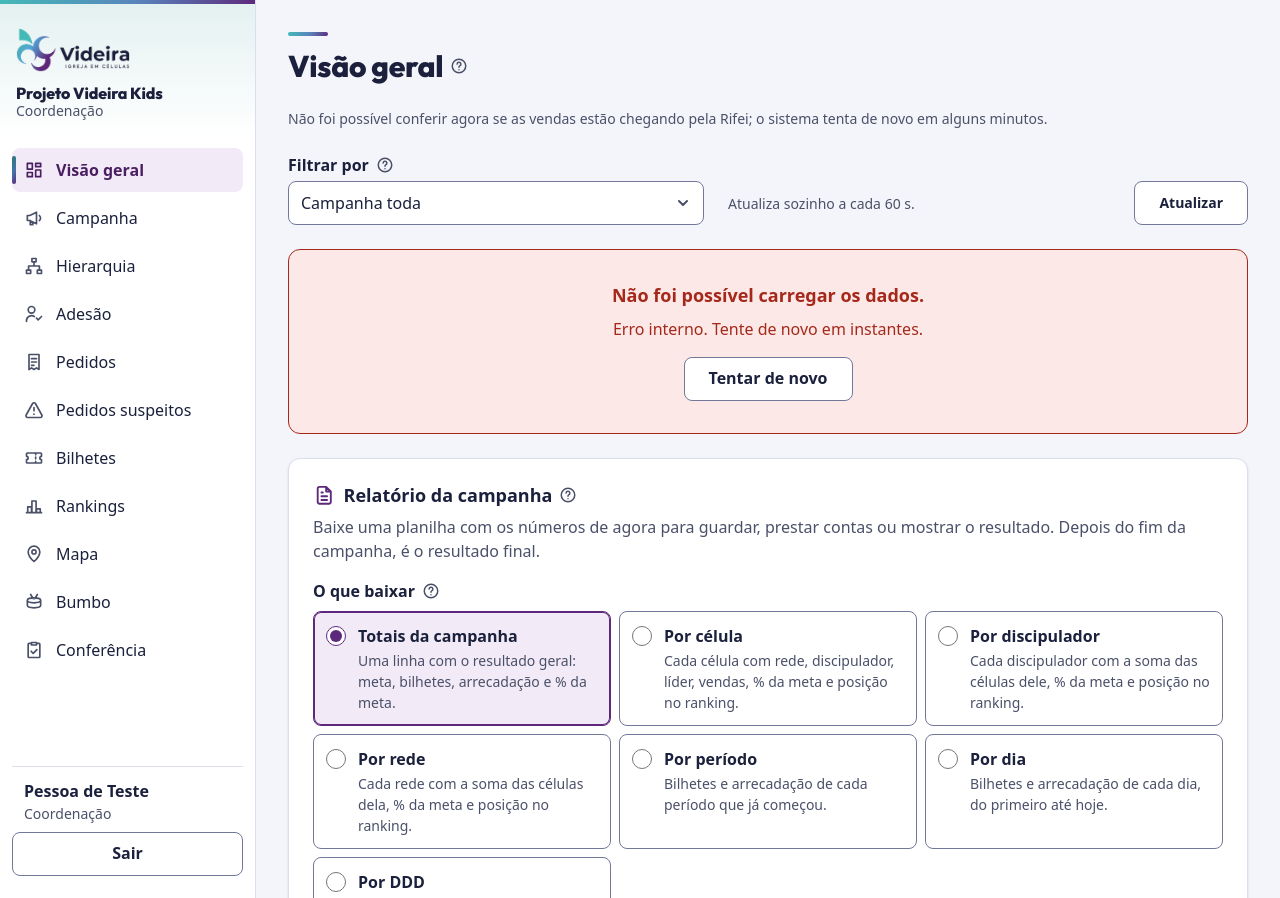
CA5: estados › erro: a mensagem e Tentar de novo, que volta a carregar
Expected: the message shows "Não foi possível carregar os dados.", [612,283,924,307]
Expected: the message shows "Erro interno. Tente de novo em instantes.", [613,318,923,340]
What coordinates should you click on to do the following:
click the button "Tentar de novo"
I would click on:
 (768, 379)
Its box is [684,357,852,401].
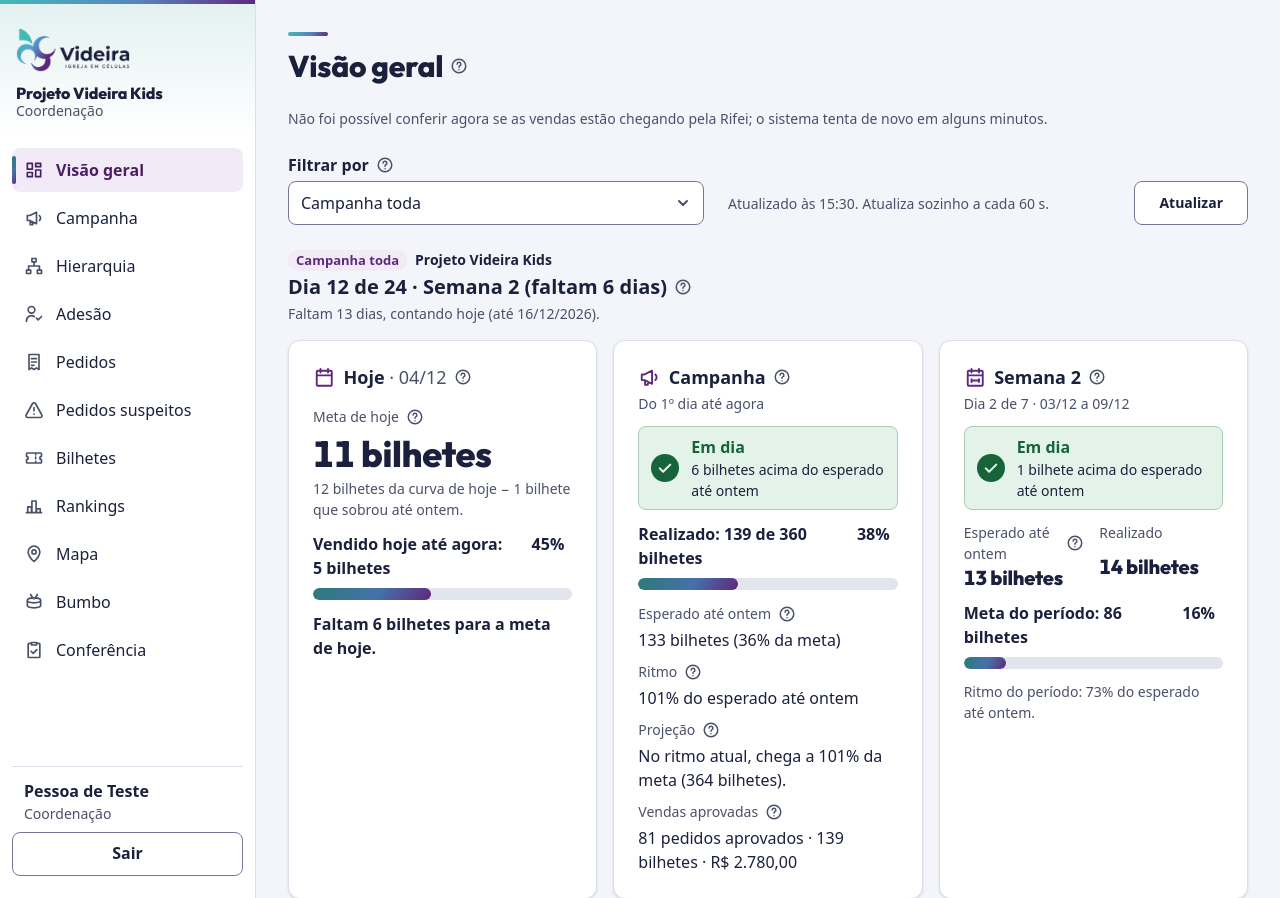
Now the text "Atualizado às 15:30. Atualiza sozinho a cada 60 s." is shown, box [728,194,1049,212]
Now the text "Em dia" below "Do 1º dia até agora" is shown, box [691,436,745,458]
